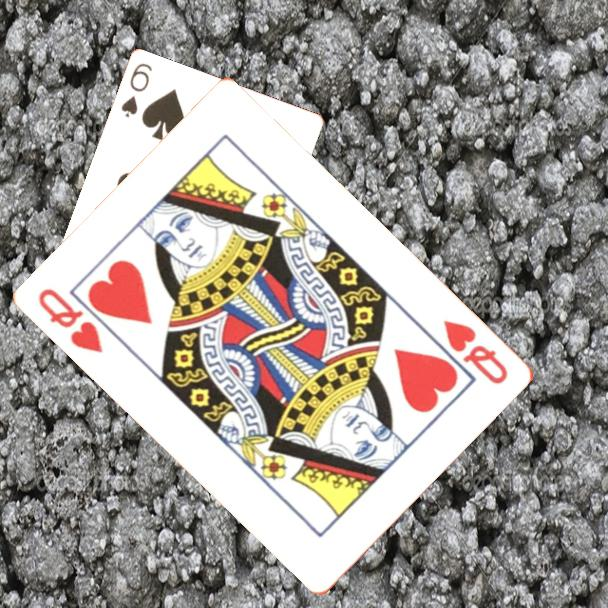h12: (440, 316, 512, 388), (35, 285, 107, 356)
s06: (118, 60, 155, 121)
